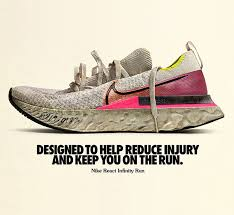nike: (90, 71, 197, 113)
